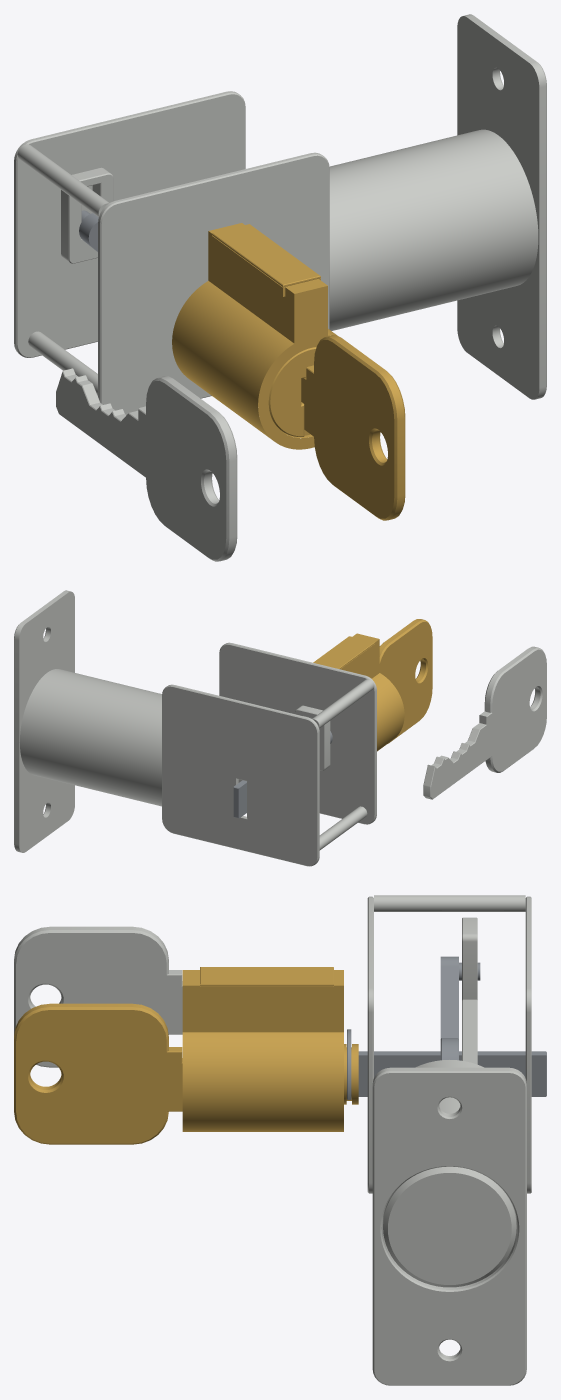
File: pin-tumbler-lock.glb
The picture shows the model from 3 angles, top to bottom: view 1: azimuth 30°, elevation 25°; view 2: azimuth 150°, elevation 25°; view 3: azimuth 270°, elevation 25°; orthographic projection. The views are drawn at different scales.
Parts seen in each view (by area): view 1: latch_case, latch_cover, wrong_key, housing, key, spring_cover, plug, bolt; view 2: latch_case, latch_cover, wrong_key, key, housing, spring_cover, bolt, tailpiece; view 3: latch_case, housing, key, bolt, wrong_key, spring_cover, tailpiece, drive, latch_cover, plug.
Part boxes in pixels (x1=…): latch_case: x1=14, y1=14, x2=546, y2=399; latch_cover: x1=98, y1=152, x2=329, y2=414; wrong_key: x1=56, y1=368, x2=237, y2=561; housing: x1=172, y1=223, x2=337, y2=449; key: x1=301, y1=335, x2=405, y2=520; spring_cover: x1=211, y1=224, x2=320, y2=296; plug: x1=268, y1=347, x2=316, y2=436; bolt: x1=61, y1=167, x2=113, y2=263; latch_case: x1=14, y1=590, x2=374, y2=866; latch_cover: x1=219, y1=642, x2=376, y2=824; wrong_key: x1=423, y1=646, x2=546, y2=799; key: x1=379, y1=619, x2=432, y2=743; housing: x1=347, y1=633, x2=404, y2=751; spring_cover: x1=313, y1=636, x2=374, y2=670; bolt: x1=295, y1=705, x2=330, y2=770; tailpiece: x1=233, y1=780, x2=246, y2=818; latch_case: x1=372, y1=895, x2=531, y2=1385; housing: x1=182, y1=970, x2=343, y2=1131; key: x1=14, y1=1003, x2=182, y2=1144; bolt: x1=383, y1=917, x2=516, y2=1287; wrong_key: x1=14, y1=926, x2=182, y2=1067; spring_cover: x1=200, y1=967, x2=333, y2=995; tailpiece: x1=358, y1=1051, x2=546, y2=1096; drive: x1=440, y1=956, x2=480, y2=1060; latch_cover: x1=367, y1=896, x2=373, y2=1193; plug: x1=344, y1=1044, x2=358, y2=1104.
Bounding box in the file's own units: 0.0913 × 0.0572 × 0.0877.
